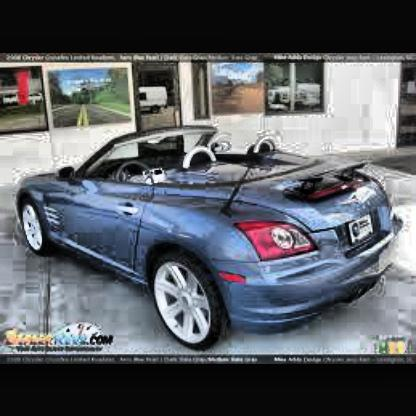Chrysler Crossfire Convertible 2008: (19, 125, 407, 356)
